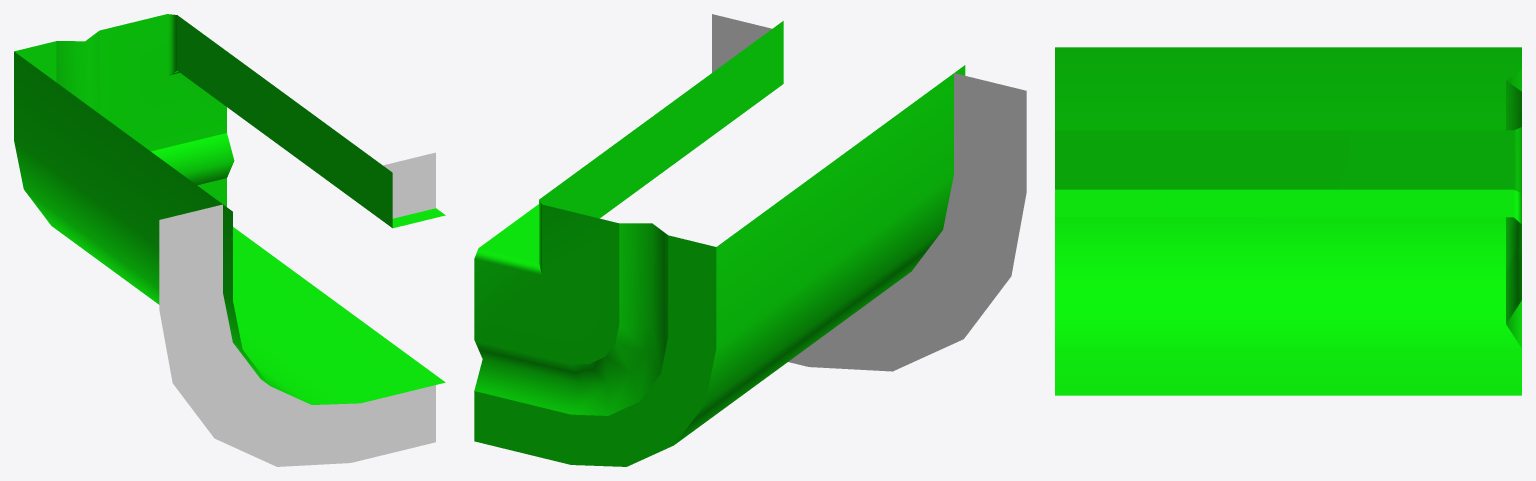
Rendered from InnerCorner.fbx.
3 views of the same model, side by side, from view 1: azimuth 30°, elevation 25°; view 2: azimuth 150°, elevation 25°; view 3: azimuth 270°, elevation 25° (orthographic). The views are drawn at different scales.
Parts seen in each view (by area): view 1: InnerCorner_1; view 2: InnerCorner_1; view 3: InnerCorner_1.
Part boxes in pixels (x1,y1,x2,y2): InnerCorner_1: (14,14,445,466); InnerCorner_1: (474,14,1026,466); InnerCorner_1: (1055,47,1521,395).
Size of the model in its own units: 130 by 130 by 178.
